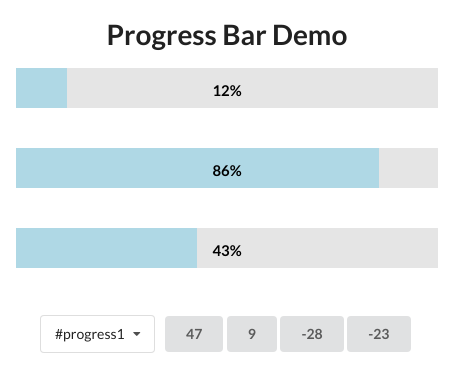
Test case: App › decrement progress ba to 0
Check: the heading "Progress Bar Demo" is shown, box left=107, top=16, right=347, bottom=50
Click the button "-28".
click(312, 334)  # box left=280, top=316, right=344, bottom=352
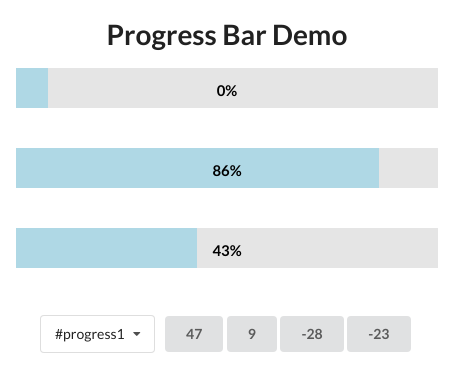
Check: the element showing "0%" does not show "-14%", box left=16, top=68, right=438, bottom=108
Check: the element showing "0%" is shown, box left=16, top=68, right=438, bottom=108
